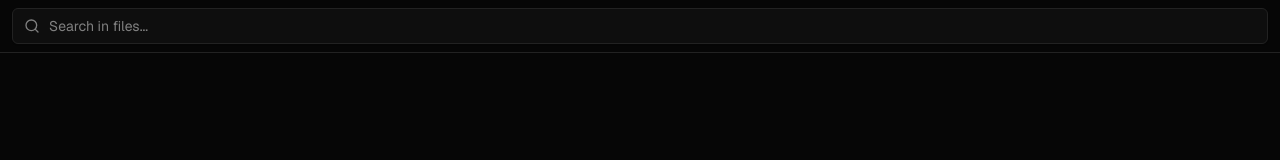
Test: ContentSearch › Search results › should show error message on search failure
The image size is (1280, 160).
In the field with placeholder "Search in files...": x=640, y=26 [12, 8, 1268, 44], type "test"
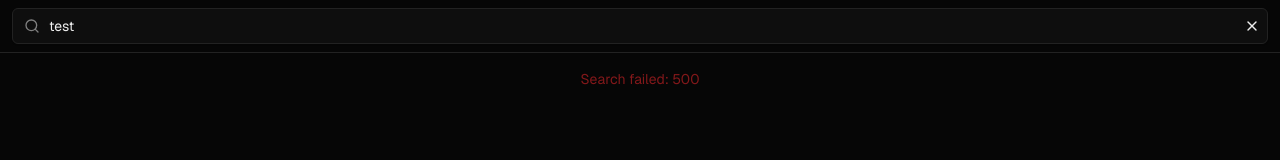
Expected: the text "Search failed: 500" is shown, [580, 70, 700, 88]
